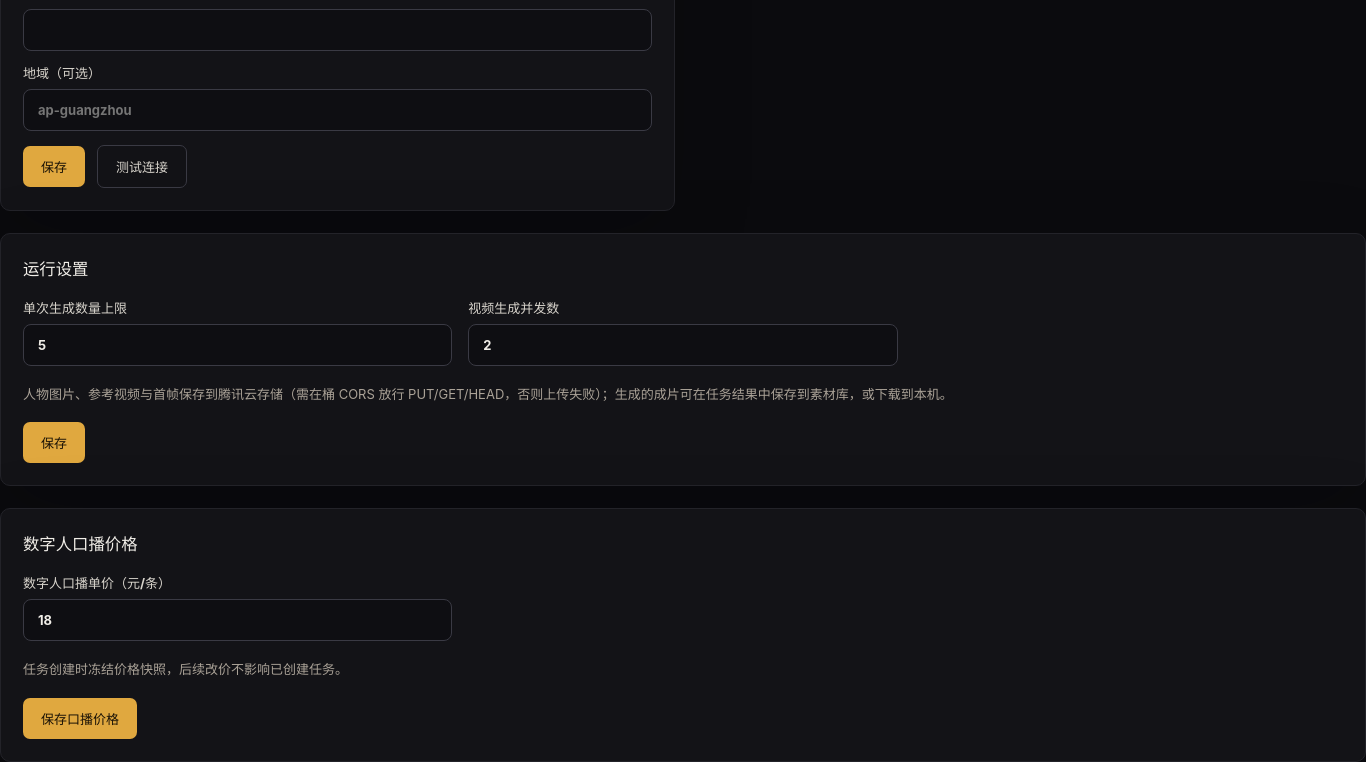
Test case: SettingsPanel › updates the oral unit price through the admin billing route
(page scrolled)
Replace the text in the number field labelled "数字人口播单价（元/条）" with "25" at (238, 620), box top-left (23, 599), bottom-right (452, 641)
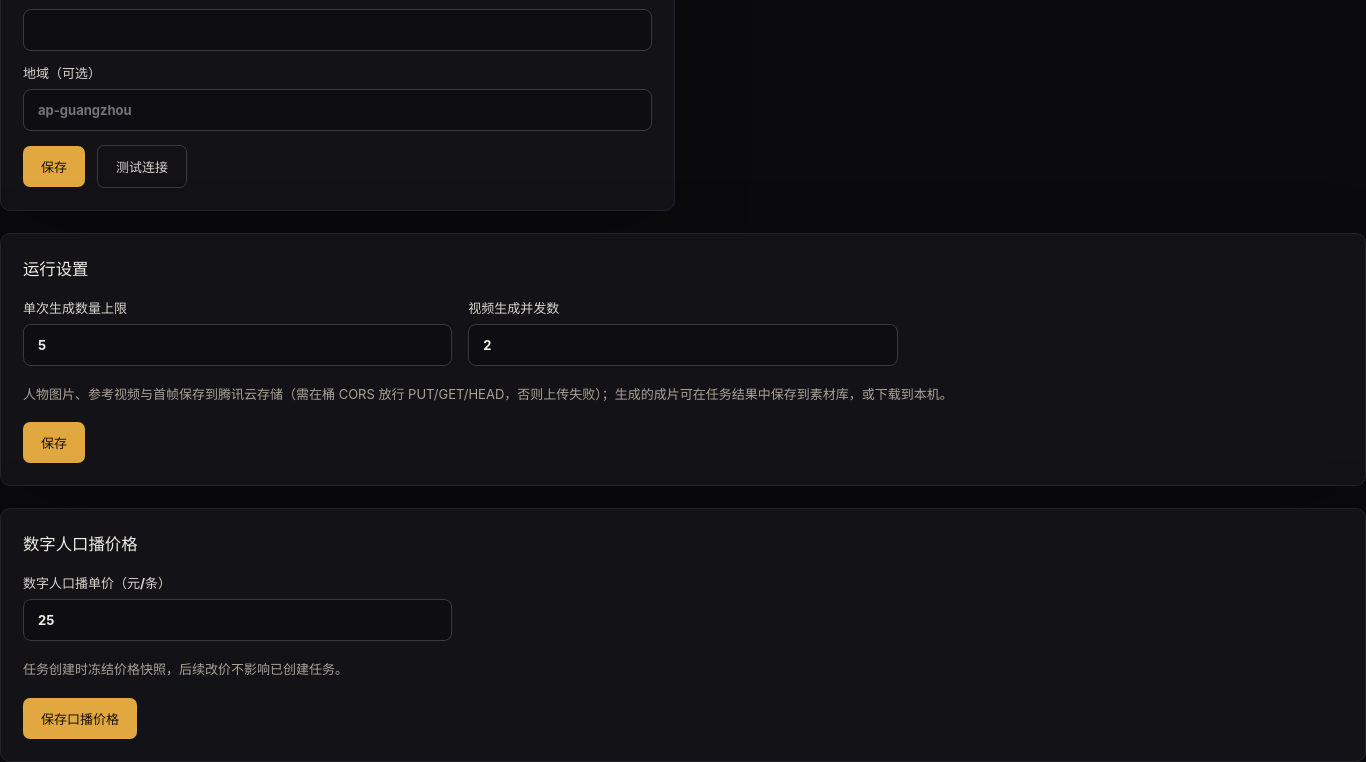
Click the button "保存口播价格" at (80, 719), box top-left (23, 698), bottom-right (137, 739)
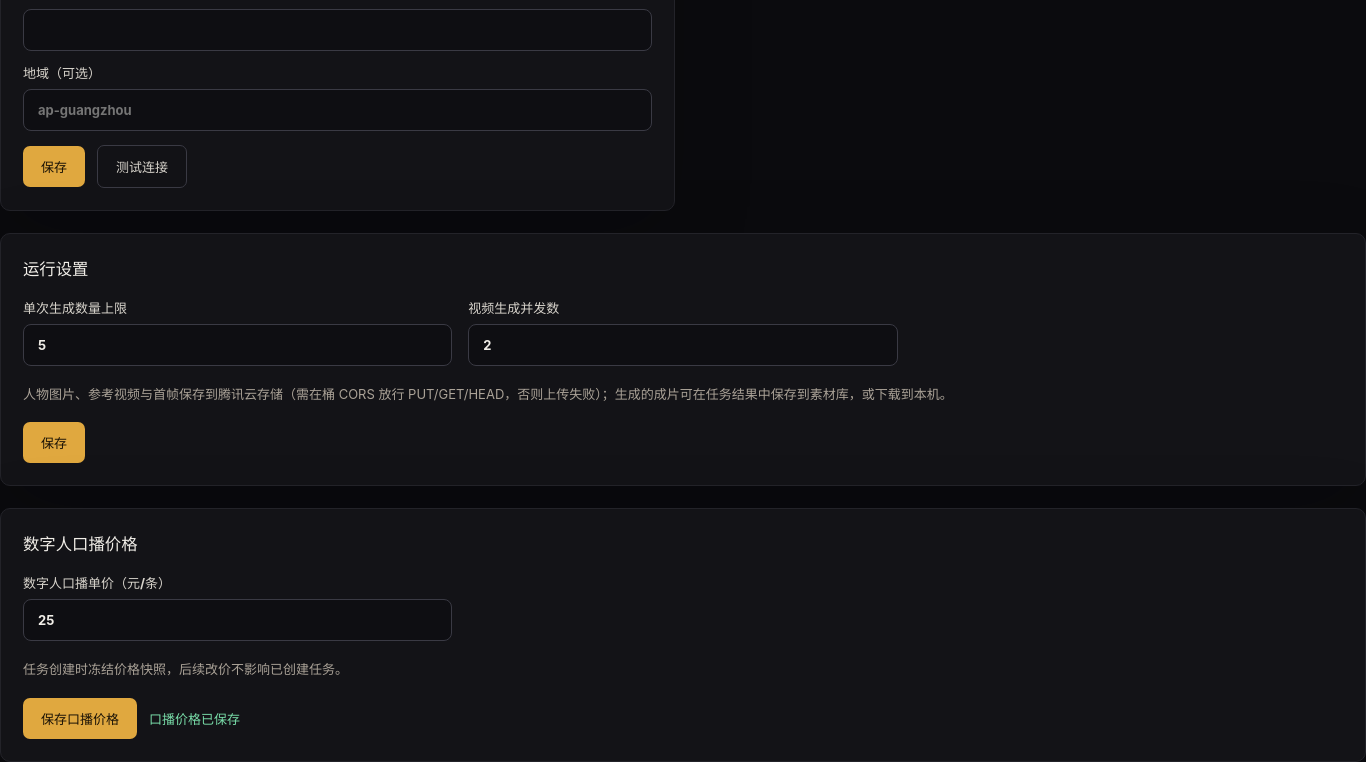
Now the text "口播价格已保存" is shown, box top-left (149, 709), bottom-right (240, 728)
